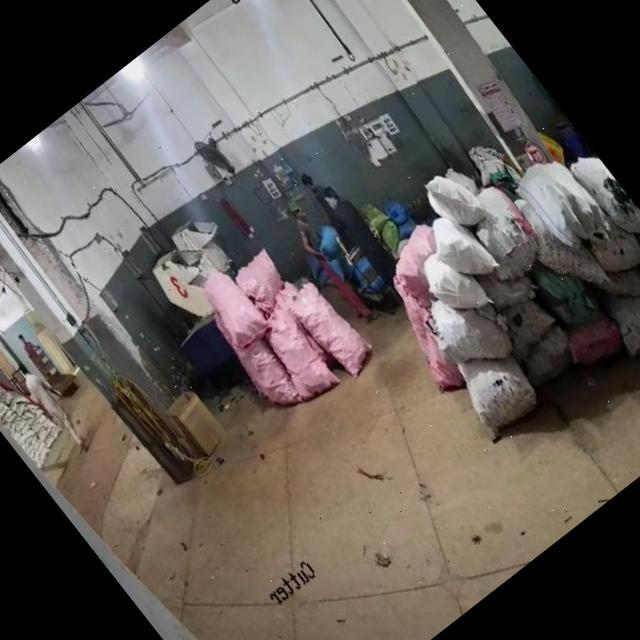person: (266, 188, 378, 322), (314, 180, 396, 276), (14, 361, 92, 456), (290, 161, 352, 231), (11, 328, 52, 376)
